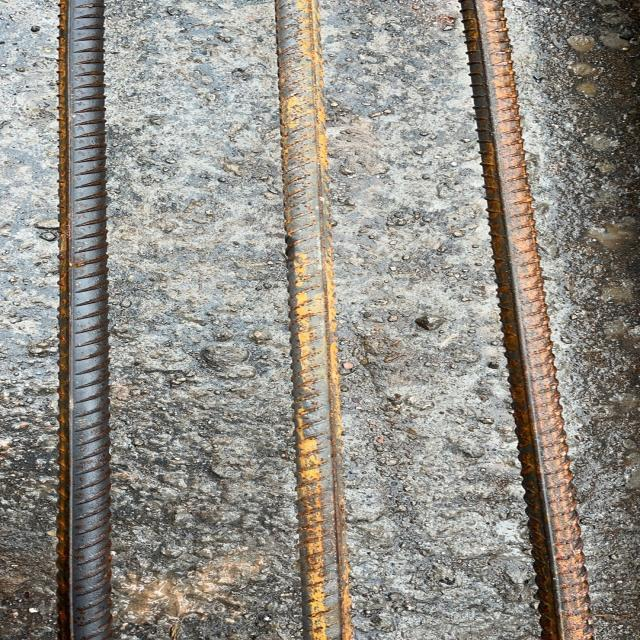ribbed bar: (458, 0, 596, 639), (274, 0, 354, 639), (55, 0, 113, 639)
